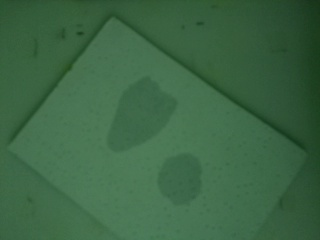Water_detected: (113, 92, 164, 136), (172, 164, 196, 192)
